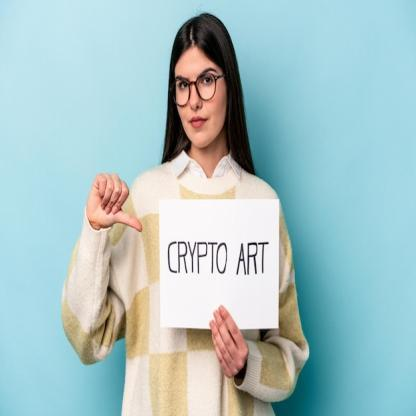thumb_down: (86, 168, 145, 236)
